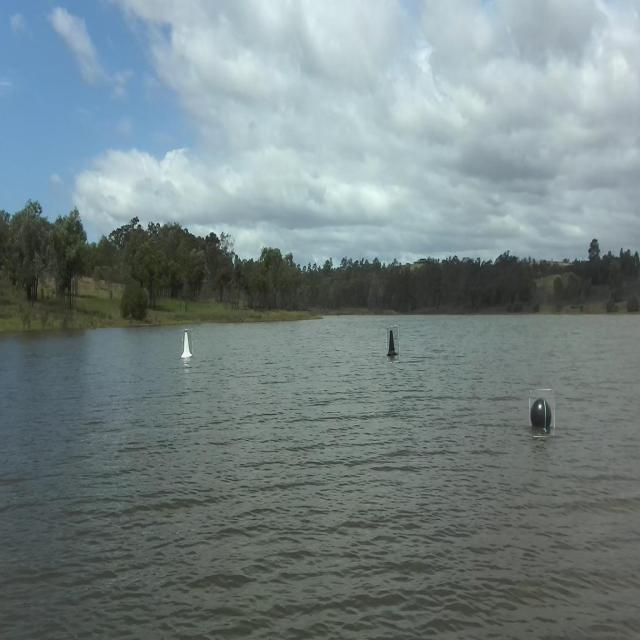Black_Buoy: (526, 386, 556, 434), (382, 326, 402, 362)
White_Buoy: (180, 330, 193, 362)
